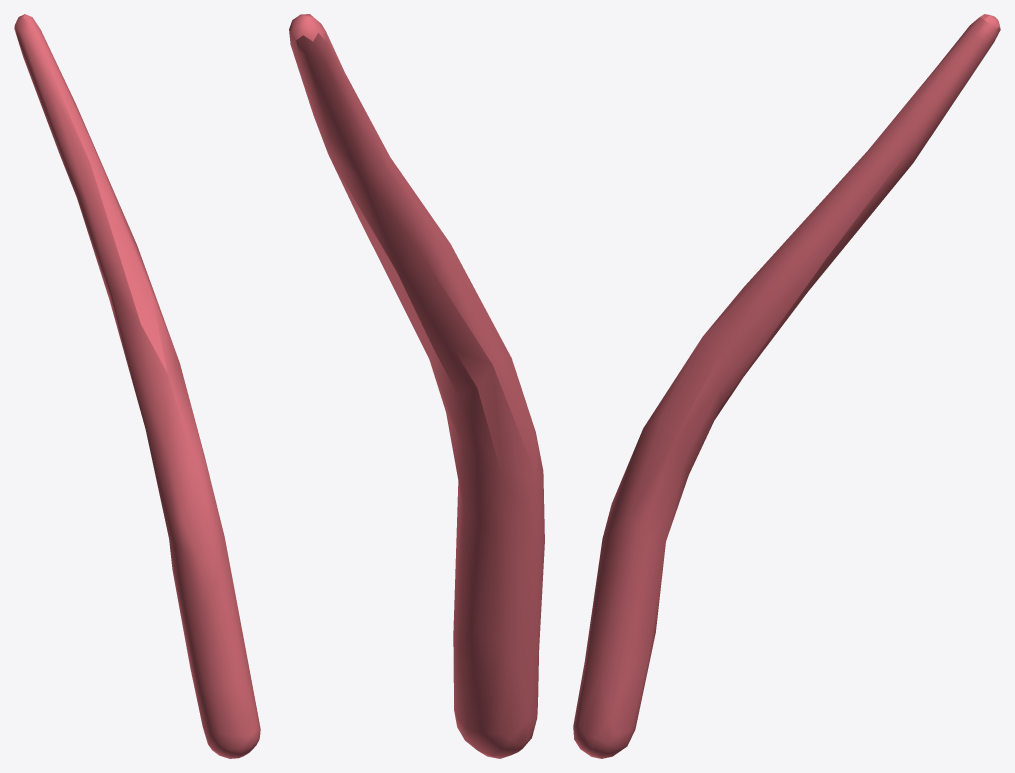
File: fma8661_fj6139.glb
The picture shows the model from 3 angles, left to right: view 1: azimuth 30°, elevation 25°; view 2: azimuth 150°, elevation 25°; view 3: azimuth 270°, elevation 25°; orthographic projection. The views are drawn at different scales.
Parts seen in each view (by area): view 1: FMA8661_FJ6139; view 2: FMA8661_FJ6139; view 3: FMA8661_FJ6139.
Part boxes in pixels (x1,y1,x2,y2): FMA8661_FJ6139: (14, 14, 260, 758); FMA8661_FJ6139: (289, 14, 544, 758); FMA8661_FJ6139: (573, 14, 1000, 758).
Size of the model in its own units: 0.00724 by 0.058 by 0.0313.
